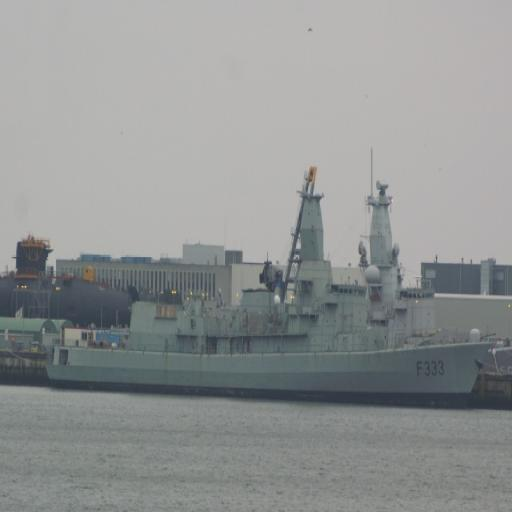Fragata: (42, 160, 499, 419)
